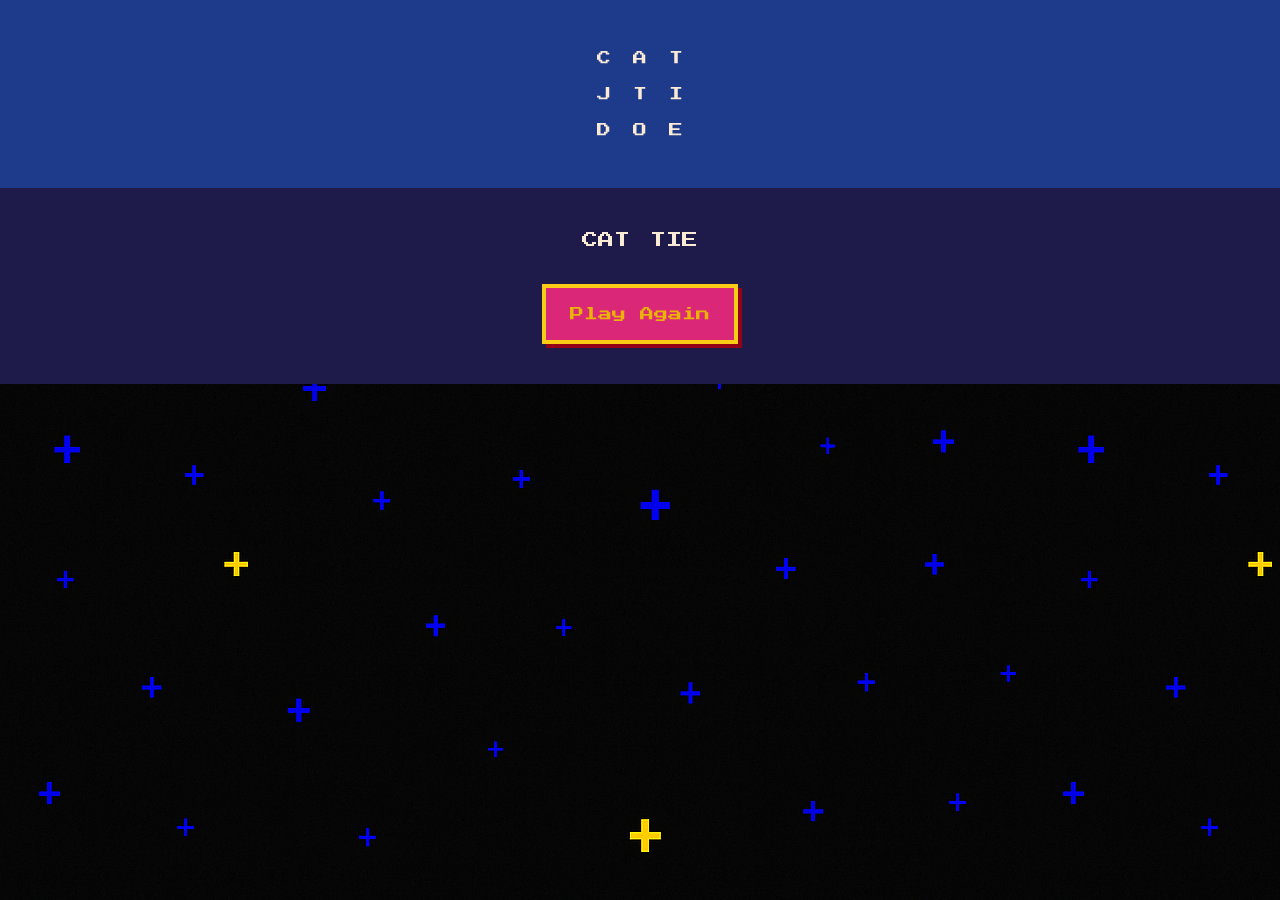
WordSearch › change grid and words when clicking 'Play Again'
Expected: the element with test id "cell-0-0" reads "C", [597,51,611,65]
Click the button "Play Again": click(640, 314) [542,284,738,344]
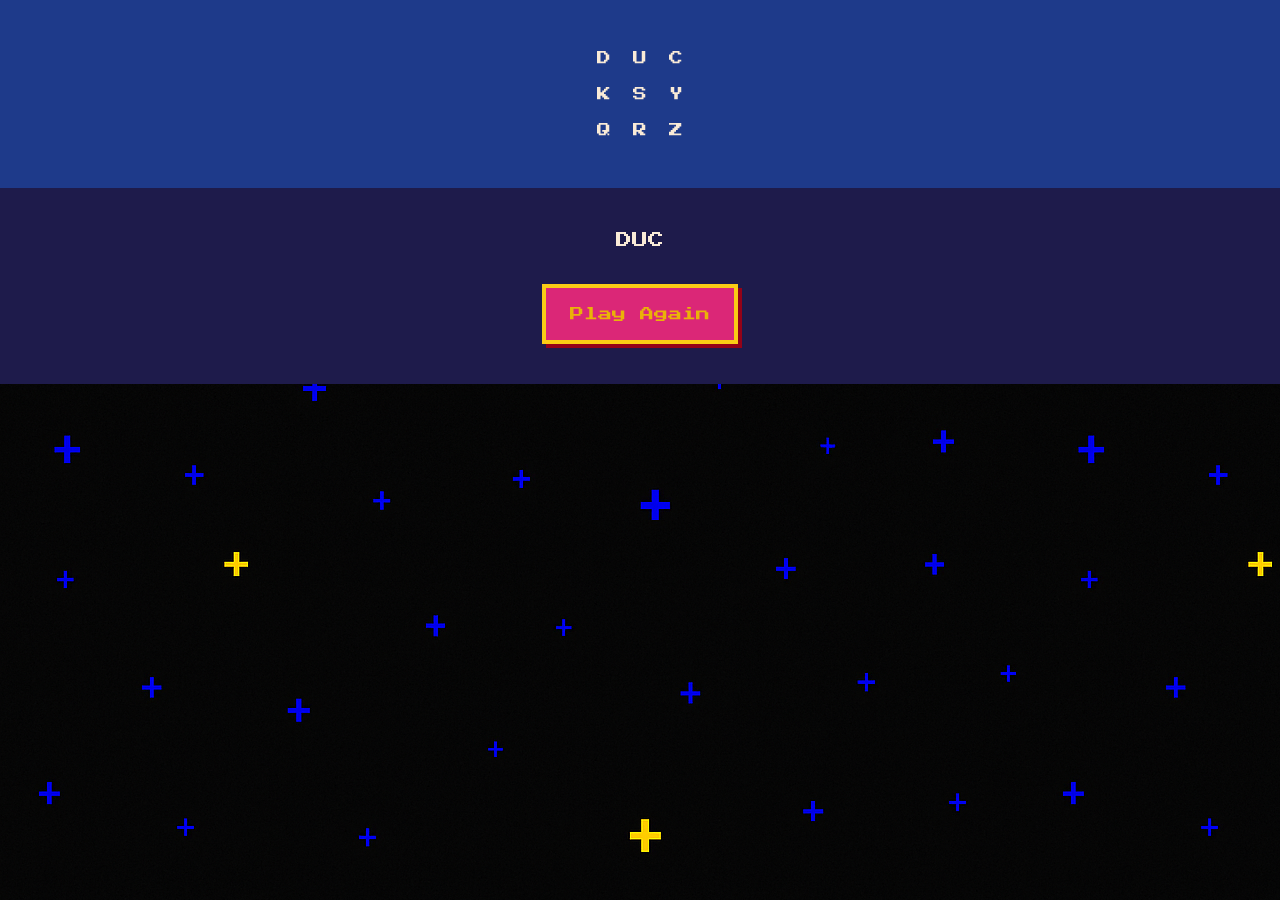
Result: the element with test id "cell-0-0" reads "D" at [597,51,611,65]
Result: the text "DUC" is shown at [616,228,664,252]
